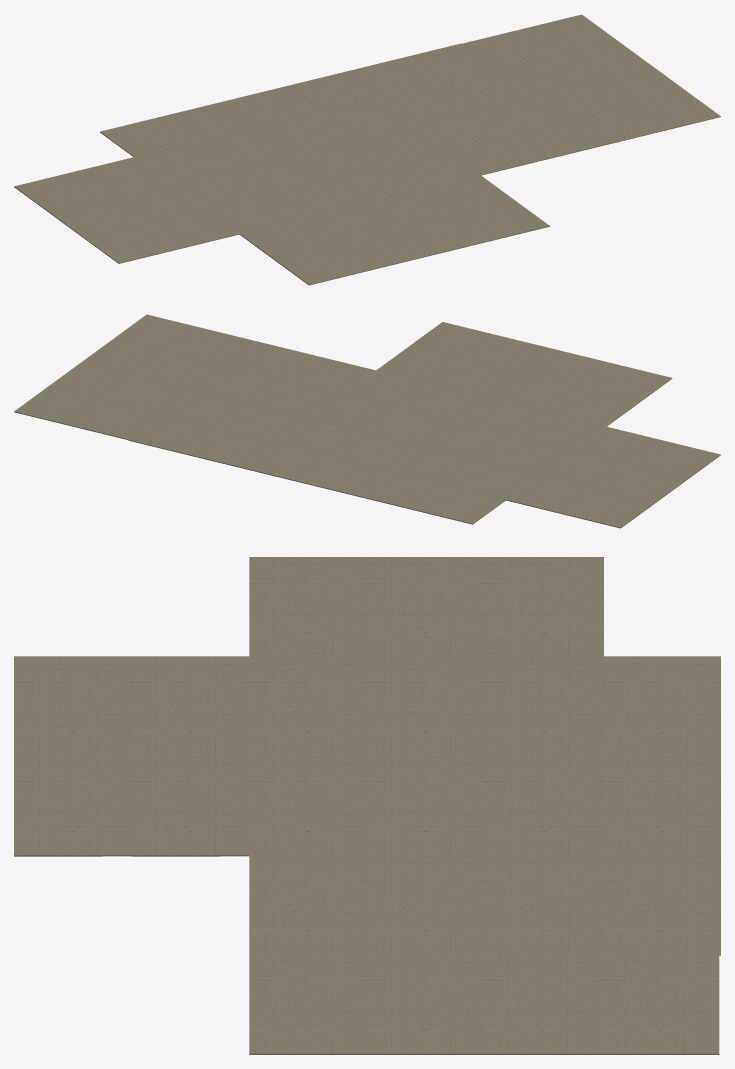
The model's file is ground_new.fbx.
3 renders of one model, top to bottom at view 1: azimuth 30°, elevation 25°; view 2: azimuth 150°, elevation 25°; view 3: azimuth 270°, elevation 25°, orthographic. The views are drawn at different scales.
Visible parts, largest first — view 1: wall.003; view 2: wall.003; view 3: wall.003.
Part boxes in pixels (bbox=[...]): wall.003: bbox=[14, 14, 720, 285]; wall.003: bbox=[14, 314, 720, 528]; wall.003: bbox=[14, 557, 720, 1054].
Size of the model in its own units: 14778 by 18.6 by 8892.
